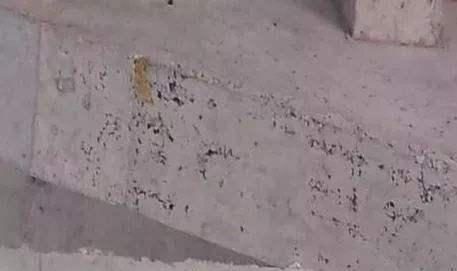Corrosion: (132, 58, 152, 104)
Spalling: (79, 53, 457, 270)
